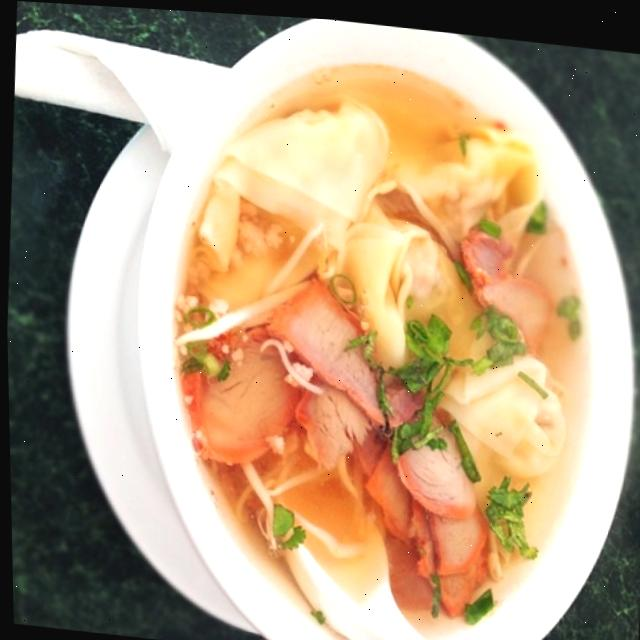汤锅炖物: (143, 37, 627, 640)
